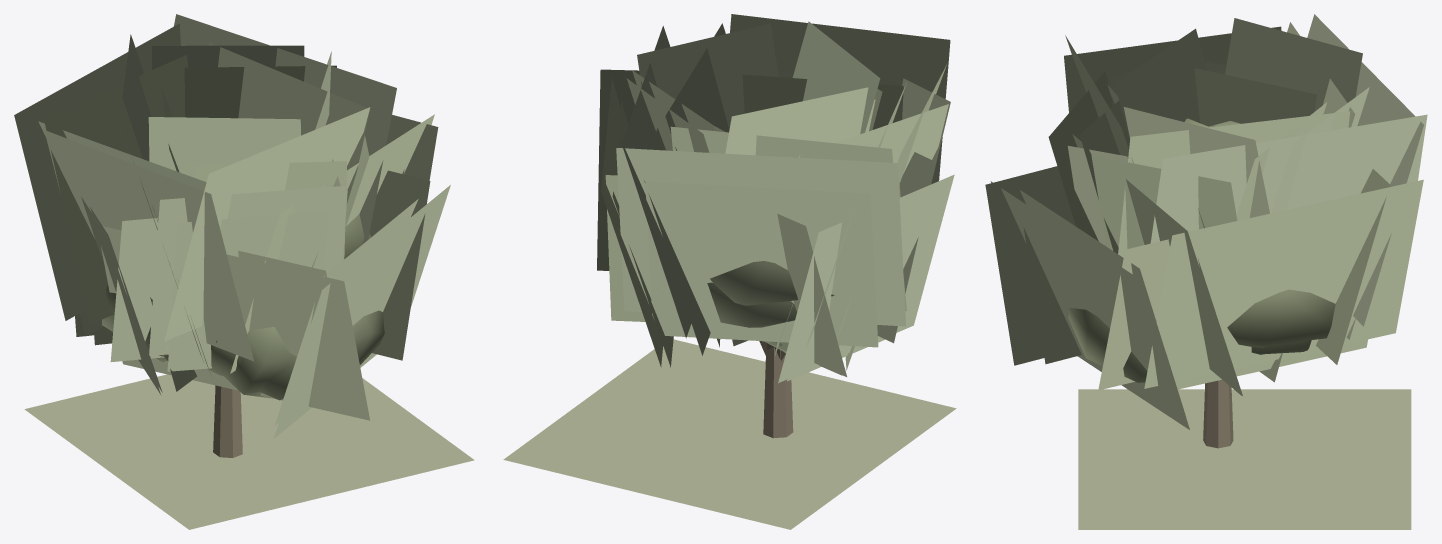
3 views of the same model, side by side, from view 1: azimuth 30°, elevation 25°; view 2: azimuth 150°, elevation 25°; view 3: azimuth 270°, elevation 25° (orthographic).
Parts seen in each view (by area): view 1: Near, Mid, Far; view 2: Near, Mid; view 3: Near, Mid.
Boxes of the visible parts, <box> form: Near: <box>24,34,474,529</box>; Mid: <box>14,14,450,438</box>; Far: <box>106,214,371,398</box>; Near: <box>503,14,956,529</box>; Mid: <box>597,26,954,383</box>; Near: <box>1016,18,1411,529</box>; Mid: <box>985,14,1427,429</box>.
Size of the model in its own units: 1.25 by 1.25 by 1.33.
